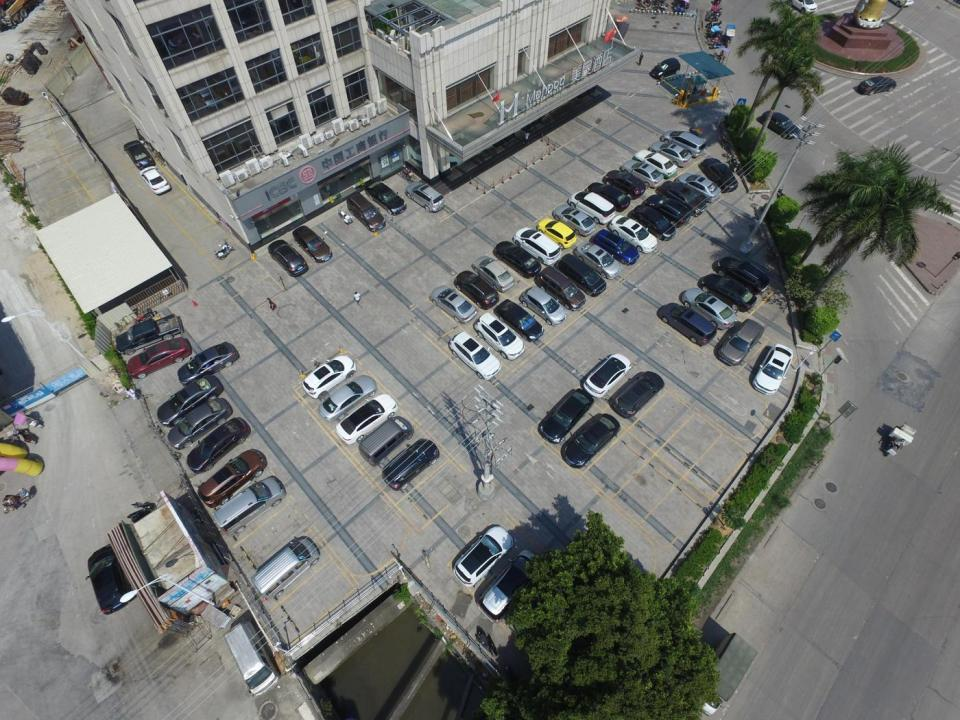car: (477, 549, 541, 624), (198, 449, 268, 508), (453, 524, 514, 587), (186, 416, 250, 474), (156, 374, 224, 428), (167, 397, 232, 450), (86, 543, 133, 614), (562, 414, 620, 468), (335, 394, 397, 444), (382, 437, 439, 491), (539, 388, 594, 443), (318, 374, 377, 421), (127, 336, 191, 379), (178, 341, 239, 386), (448, 332, 502, 379), (614, 370, 664, 418), (302, 355, 356, 399), (474, 312, 524, 359), (681, 288, 738, 329), (582, 353, 631, 398), (493, 299, 544, 342), (535, 266, 585, 309), (699, 274, 758, 310), (752, 343, 792, 396), (558, 254, 607, 296), (519, 287, 568, 327), (718, 256, 770, 293), (429, 285, 477, 324), (609, 215, 658, 252), (656, 180, 706, 216), (511, 228, 561, 264), (593, 228, 640, 266), (575, 241, 622, 278), (493, 241, 540, 278), (454, 271, 499, 309), (631, 204, 677, 241), (568, 191, 616, 224), (292, 225, 333, 263), (472, 256, 515, 292), (648, 194, 692, 228), (364, 180, 406, 215), (268, 240, 308, 276), (660, 128, 707, 158), (675, 172, 722, 202), (404, 180, 446, 212), (553, 205, 595, 236), (702, 158, 738, 194), (634, 149, 678, 178), (604, 170, 646, 200), (538, 218, 576, 250), (620, 160, 665, 187), (587, 182, 630, 210), (761, 110, 801, 139), (648, 141, 693, 166), (123, 139, 156, 170), (140, 166, 171, 195), (856, 76, 897, 96), (650, 58, 681, 79), (784, 0, 818, 14)
van: (696, 632, 758, 715), (211, 476, 286, 535), (224, 621, 280, 696), (251, 539, 320, 599), (114, 314, 184, 355), (658, 302, 718, 346), (358, 418, 411, 466), (718, 318, 764, 366), (346, 192, 387, 232)
